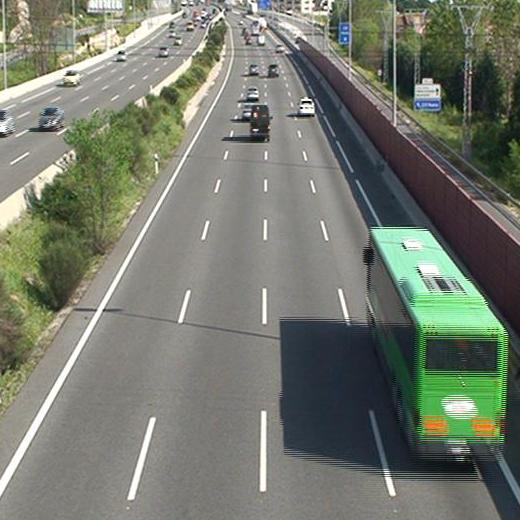bus: (366, 226, 507, 463)
car: (297, 98, 314, 116), (247, 86, 259, 101), (248, 63, 260, 76), (269, 64, 279, 78)
van: (251, 105, 270, 137)
